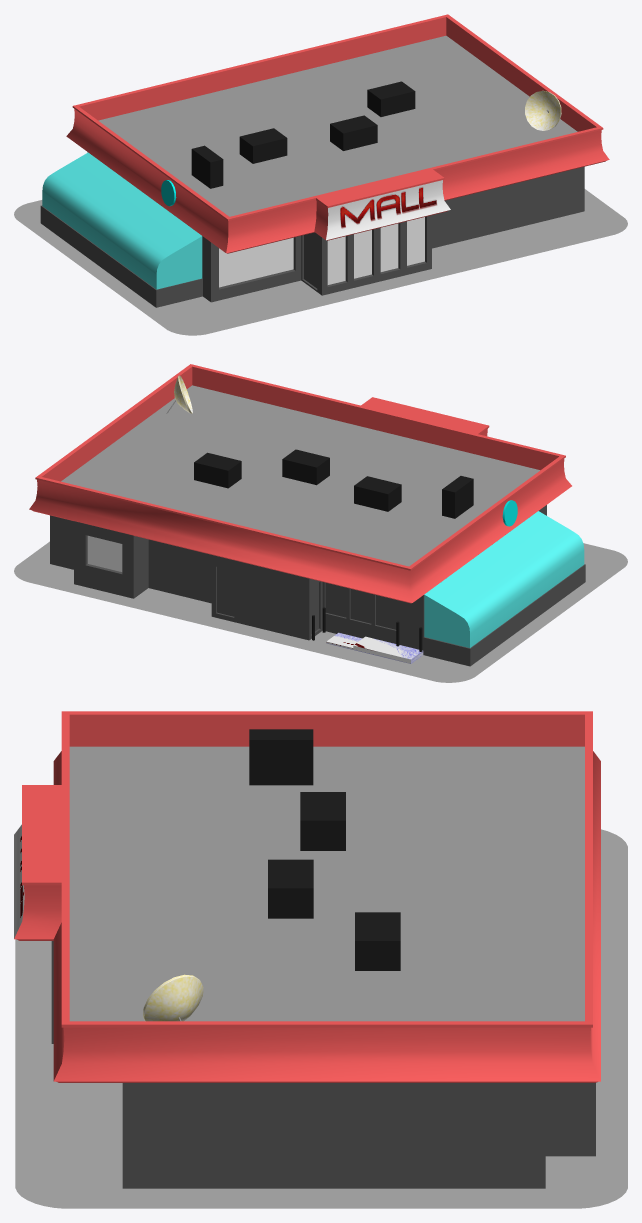
File: MALL.obj
3 views of the same model, one above another, from view 1: azimuth 30°, elevation 25°; view 2: azimuth 150°, elevation 25°; view 3: azimuth 270°, elevation 25° (orthographic). The views are drawn at different scales.
Visible parts, largest first — view 1: Wendy_s:Box001; view 2: Wendy_s:Box001; view 3: Wendy_s:Box001.
Part boxes in pixels (box(x1,y1,x2,y2)): Wendy_s:Box001: box(14, 14, 627, 335); Wendy_s:Box001: box(14, 364, 627, 682); Wendy_s:Box001: box(14, 711, 627, 1208).
Size of the model in its own units: 35.46 by 8.41 by 24.06.
Materials: 1 (1 with a texture image).
